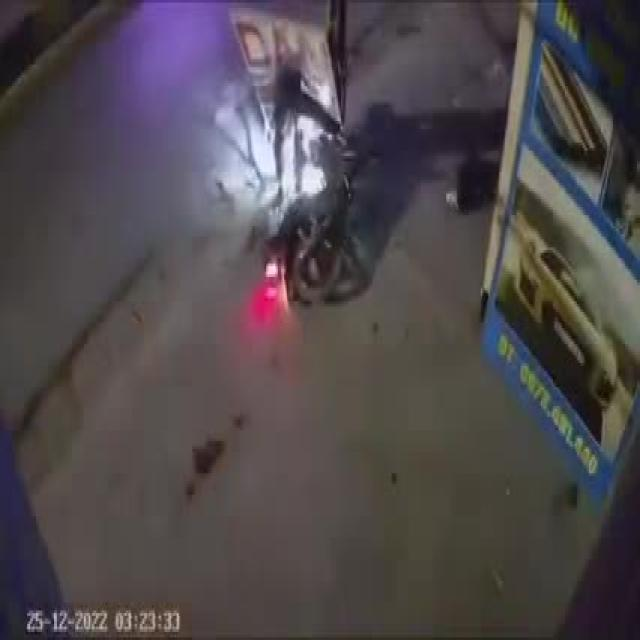single accident: (203, 0, 379, 327)
